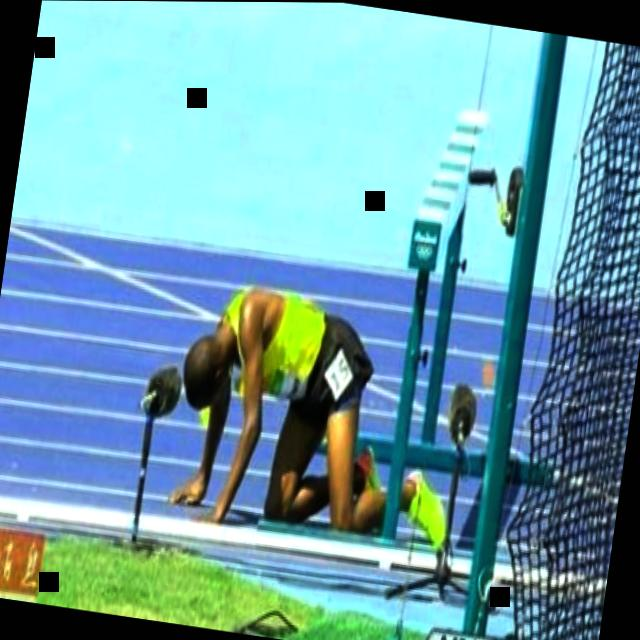Fall-Detected: (148, 244, 486, 566)
